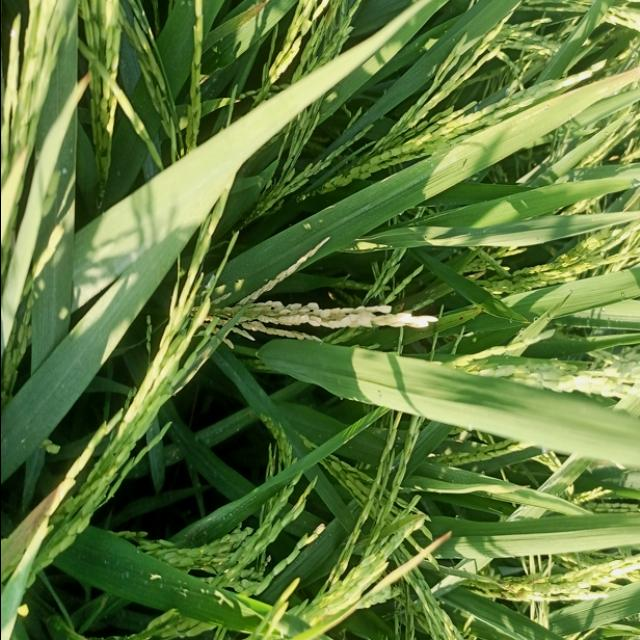Brown spot: (0, 476, 79, 594), (585, 57, 640, 106)
